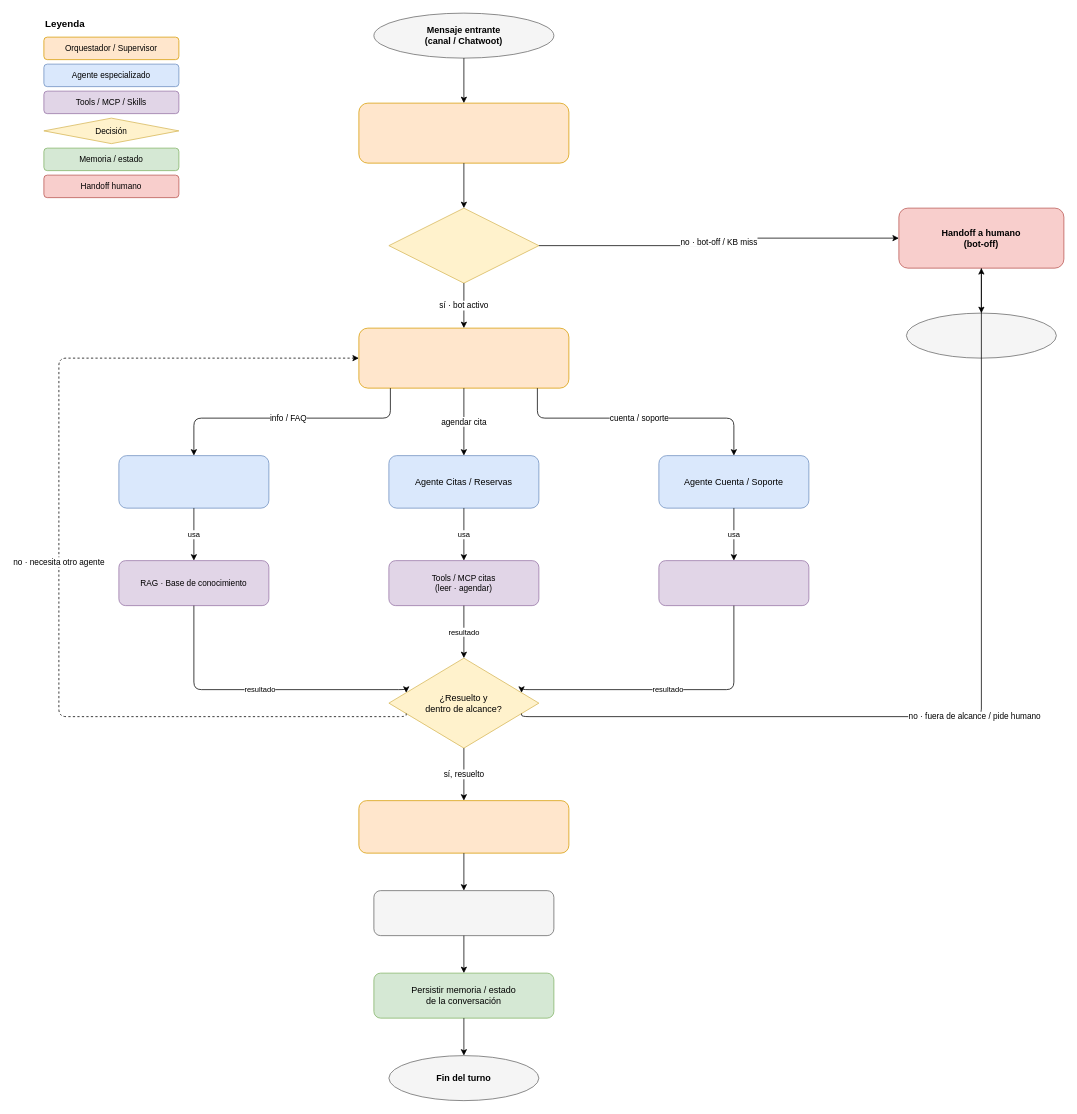
Image size: 1077x1114. Some labels were removed from this diagram. Here are the shapes that lost their labels. From the top down, the box of each, then its label:
(358, 102, 569, 163): Orquestador — Ensamblar contexto (historial + memoria + perfil del cliente)
(388, 207, 539, 283): ¿Bot activo?
(906, 312, 1056, 358): Fin — espera agente humano
(358, 327, 569, 388): Supervisor — Clasificar intención y enrutar al agente adecuado
(118, 455, 269, 508): Agente FAQ / Conocimiento
(658, 560, 809, 606): Tools / MCP cuenta · skills
(358, 800, 569, 853): Componer respuesta + guardrails / tono
(373, 890, 554, 936): Enviar respuesta al cliente
